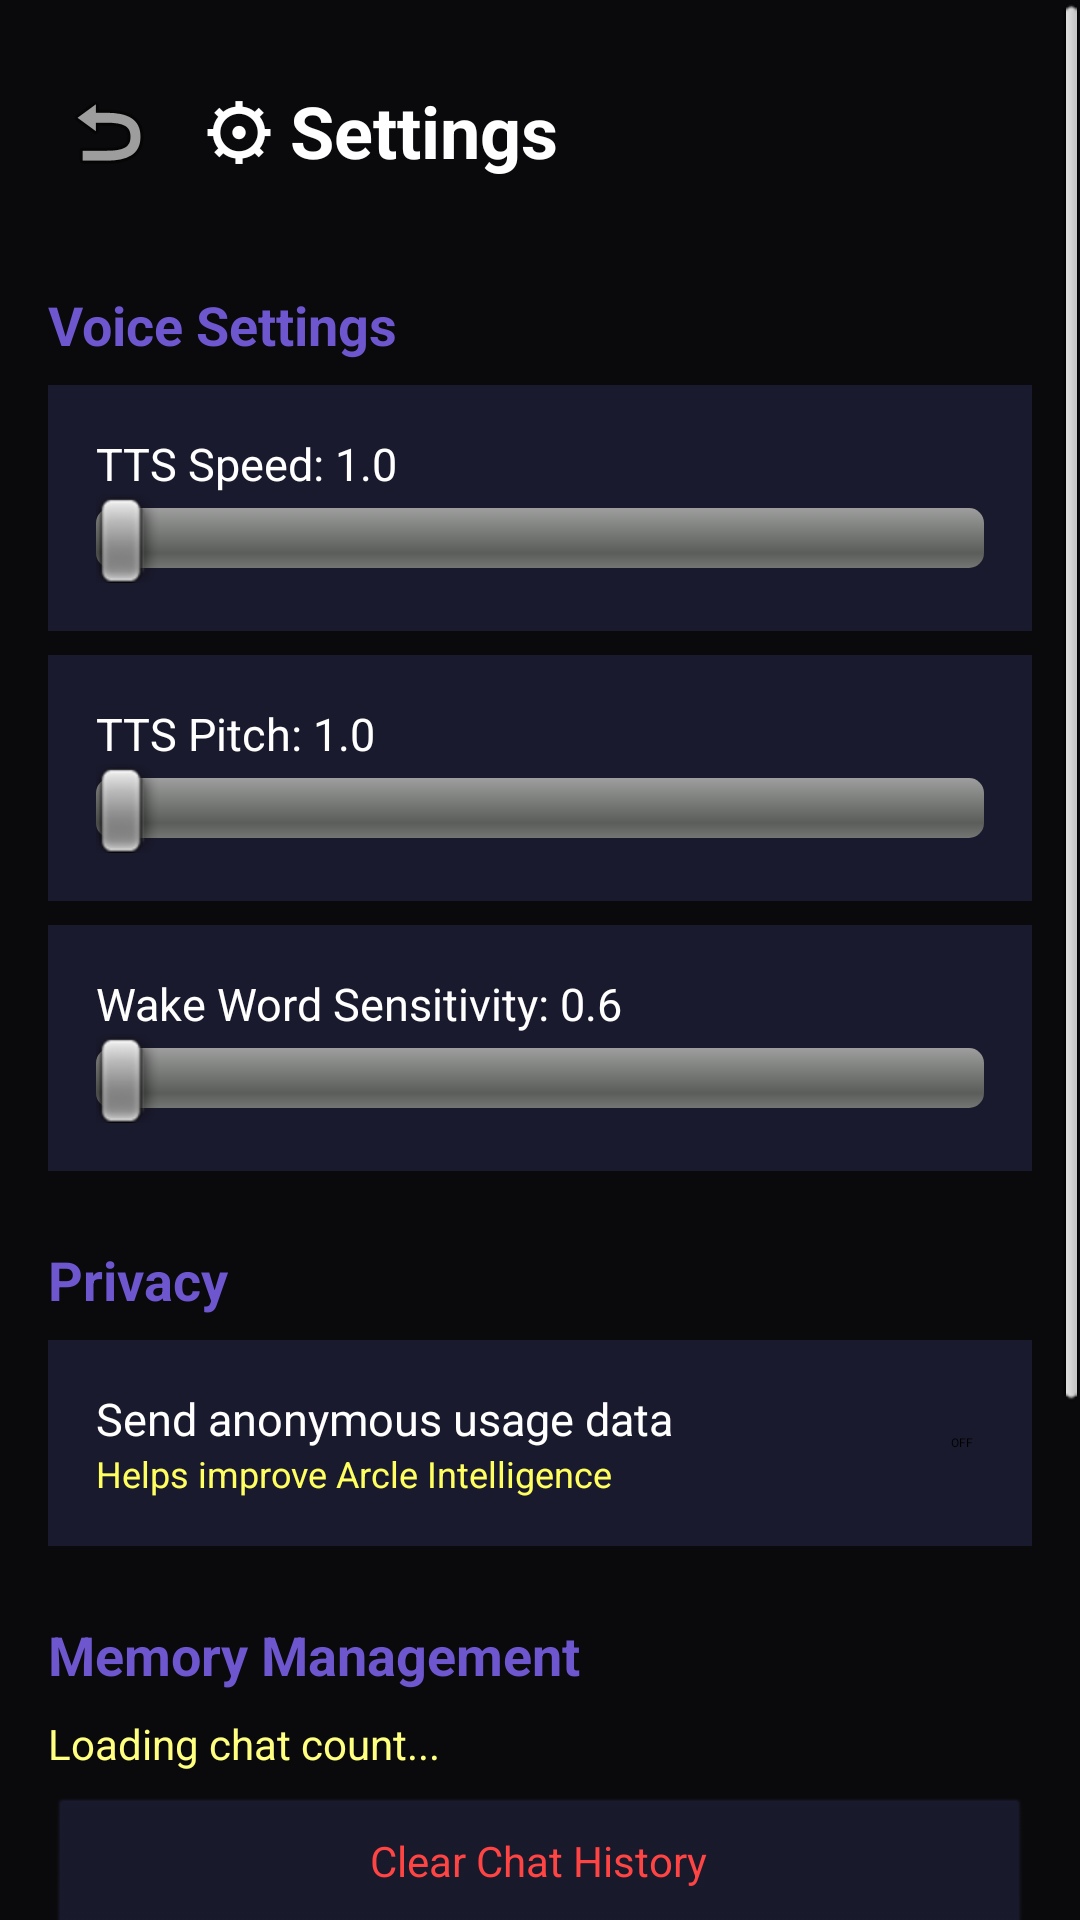

Icon click points for this 1080w x 1920h phone screenshot, format [x,y]:
revert: [109,132]
